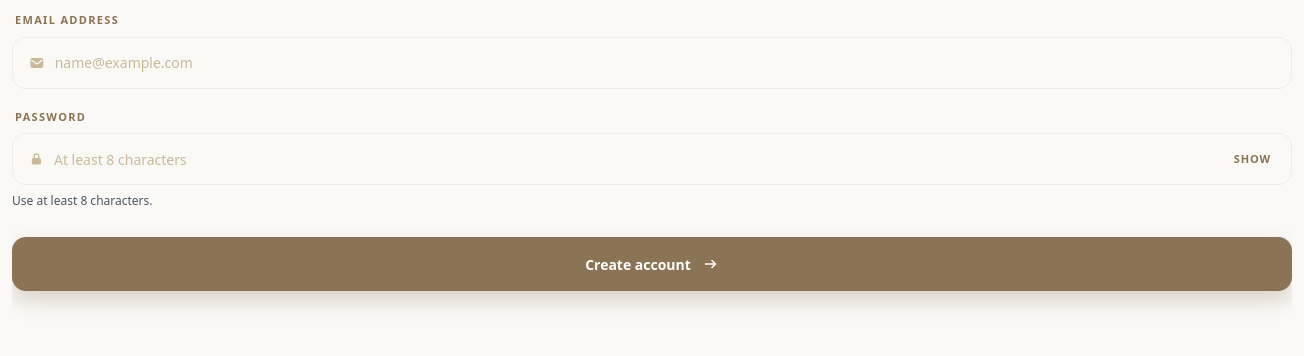
Test case: SignupForm › shows a form-level error returned by the action
This screenshot has width=1304, height=356.
Step 1. Type "ada@example.com" into the field labelled "EMAIL ADDRESS" → (665, 62), box left=55, top=38, right=1275, bottom=88
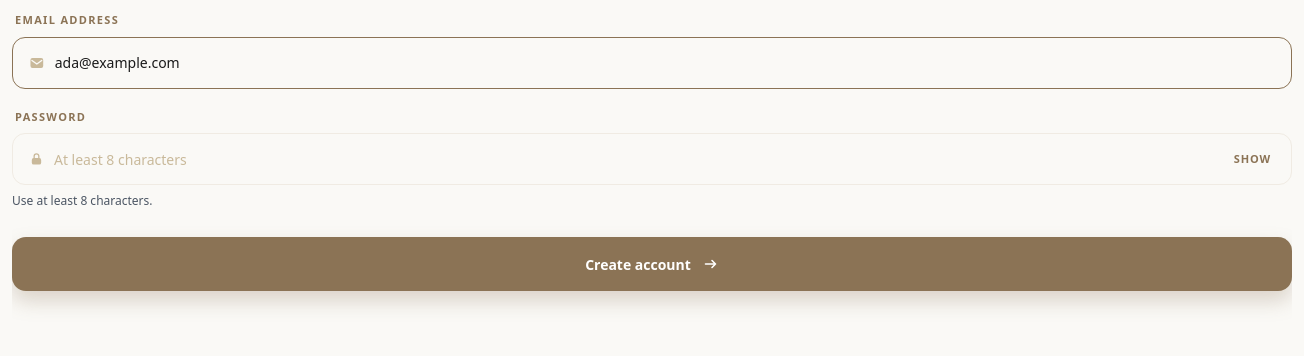
Step 2. Type "password123" into the password field labelled "PASSWORD" → (637, 159), box left=54, top=134, right=1220, bottom=184
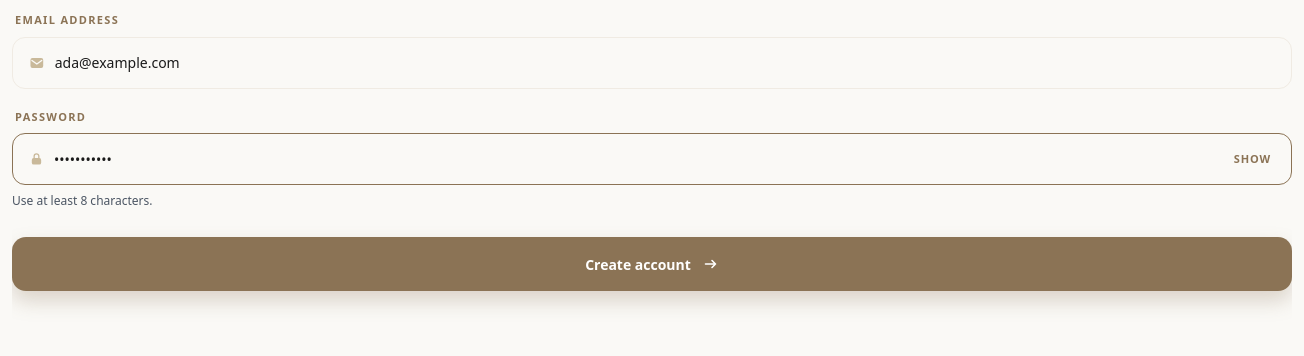
Step 3. Click the button "Create account" → (652, 264), box left=12, top=237, right=1292, bottom=291
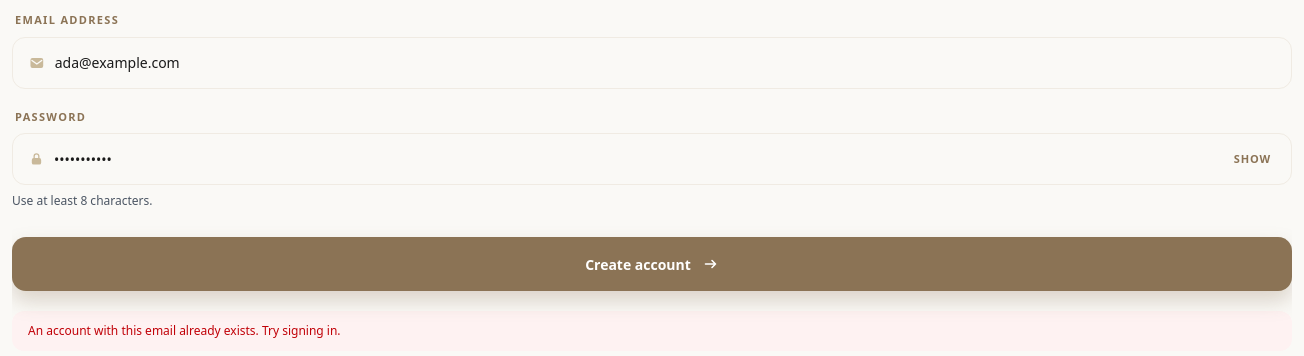
Result: the message shows "already exists" at left=28, top=322, right=341, bottom=339
